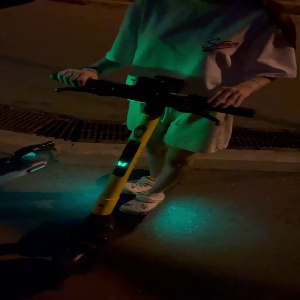human on a scooter: (48, 1, 296, 300)
